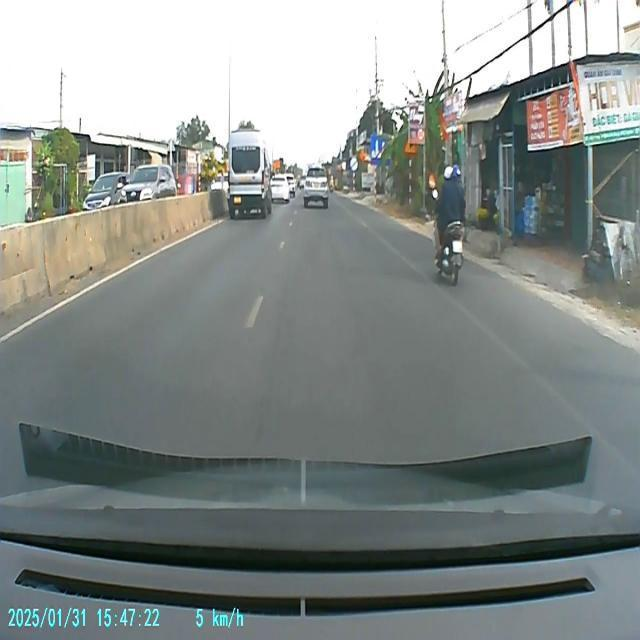421-ket-thuc-khu-dong-dan-cu: (370, 133, 398, 167)
